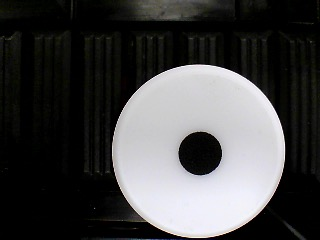BOHO: (111, 63, 286, 239)
